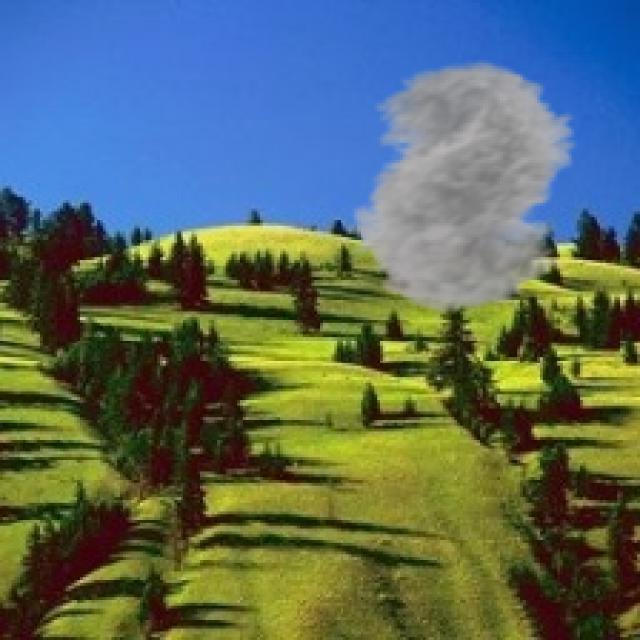smoke: (328, 60, 606, 314)
